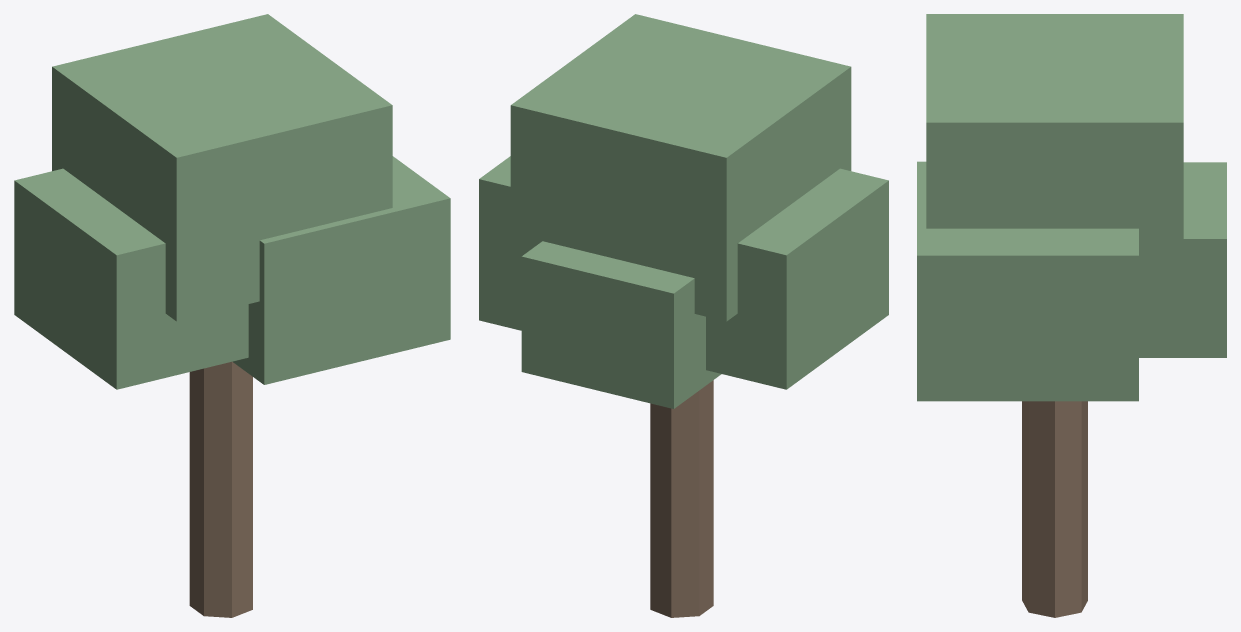
File: arvore_folhosa.glb
3 views of the same model, side by side, from view 1: azimuth 30°, elevation 25°; view 2: azimuth 150°, elevation 25°; view 3: azimuth 270°, elevation 25° (orthographic). The views are drawn at different scales.
Visible parts, largest first — view 1: part_003, part_002, part_001, part_000; view 2: part_003, part_001, part_004, part_000, part_002; view 3: part_003, part_002, part_000, part_004.
Part boxes in pixels (box(x1,y1,x2,y2)): part_003: box(52, 14, 392, 321); part_002: box(232, 156, 450, 384); part_001: box(14, 168, 248, 389); part_000: box(189, 361, 252, 617); part_003: box(510, 14, 851, 321); part_001: box(706, 168, 888, 389); part_004: box(521, 241, 721, 408); part_000: box(650, 380, 713, 617); part_002: box(479, 156, 521, 330); part_003: box(926, 14, 1183, 291); part_002: box(917, 161, 1138, 401); part_000: box(1022, 401, 1087, 617); part_004: box(1139, 162, 1226, 357).
Size of the model in its own units: 2.8 by 4.36 by 2.29.
